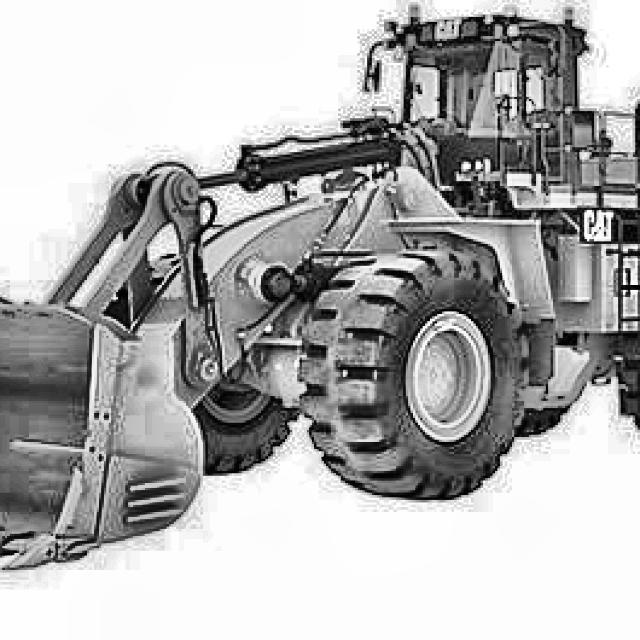buldozerpayloadergrader: (0, 0, 640, 580)
